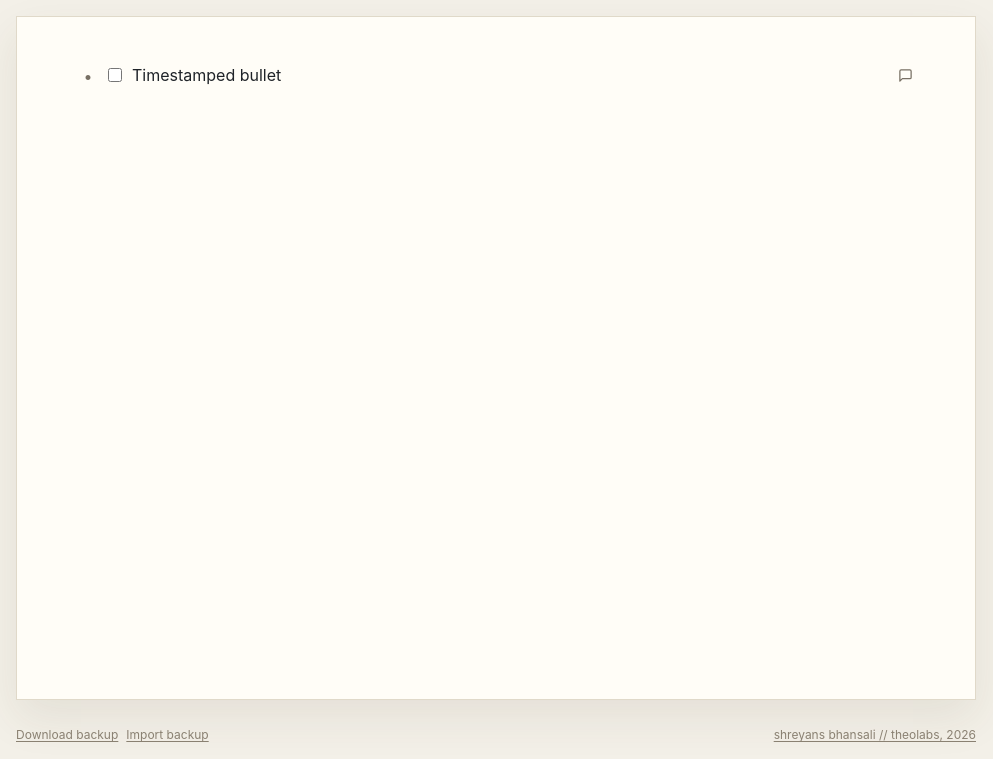
Scenario: bullet markers show created and first-run timestamps in a menu-styled hover tooltip
Hover over the button with class "bullet-marker": [88, 76] box [84, 66, 92, 86]
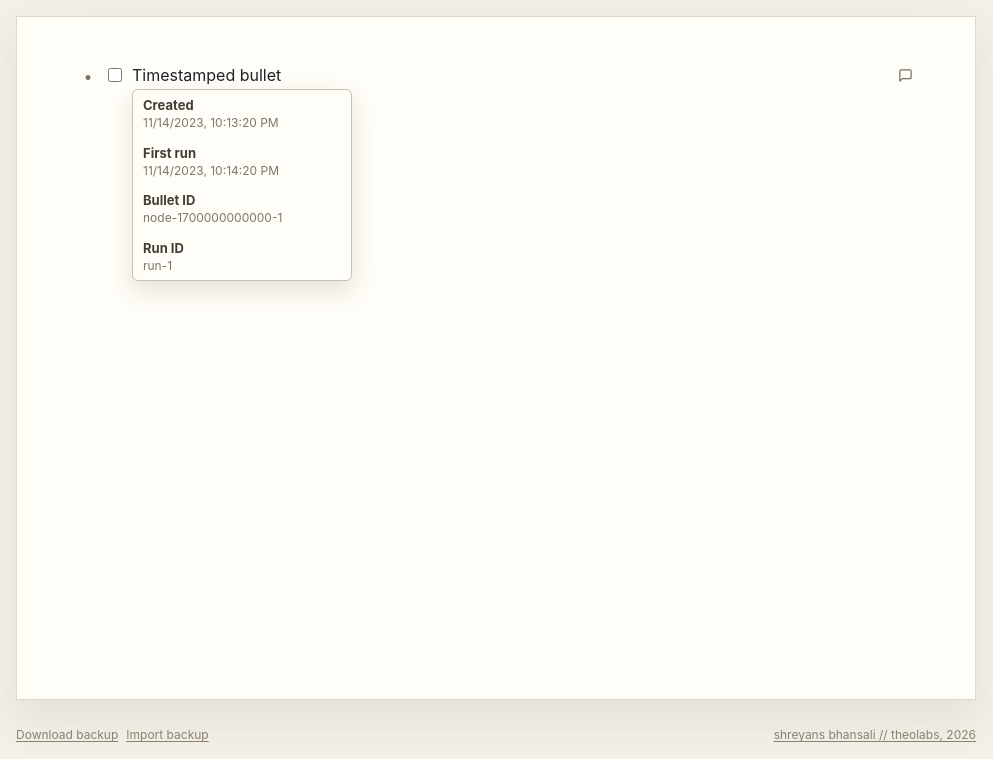
Move the pointer off the button with class "bullet-marker", box [84, 66, 92, 86]
Check: the tooltip is shown
Hover over the tooltip: [242, 185] box [132, 89, 352, 281]
Check: the tooltip is shown
Move the pointer off the tooltip, box [132, 89, 352, 281]
Wait 120 ms
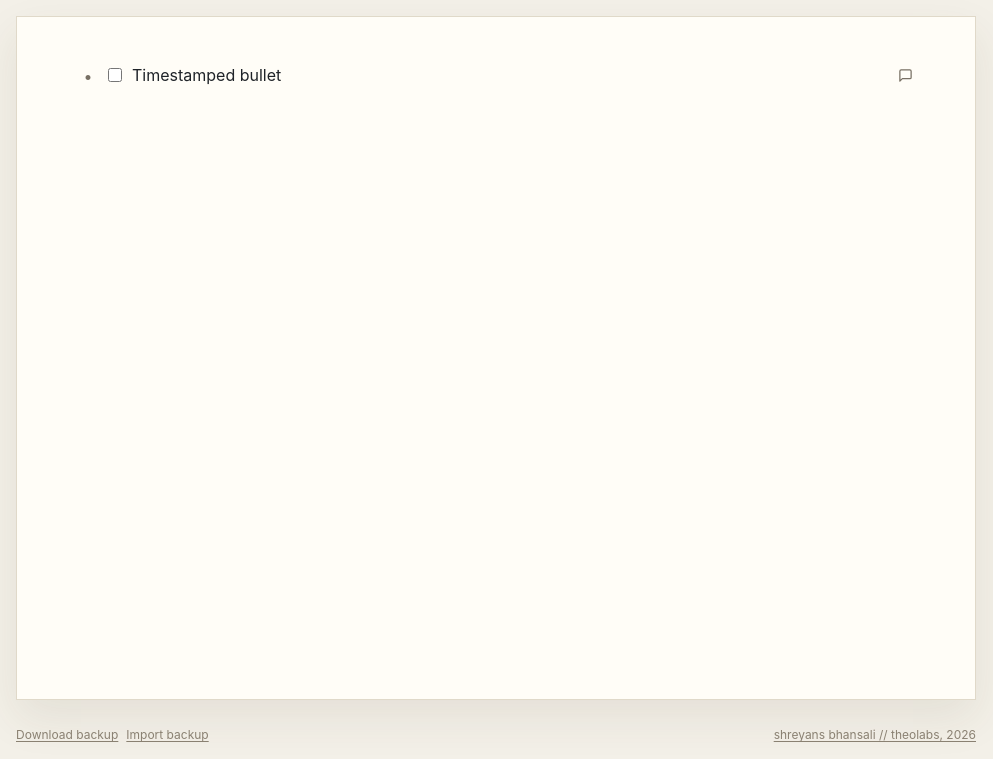
Check: the tooltip is gone
